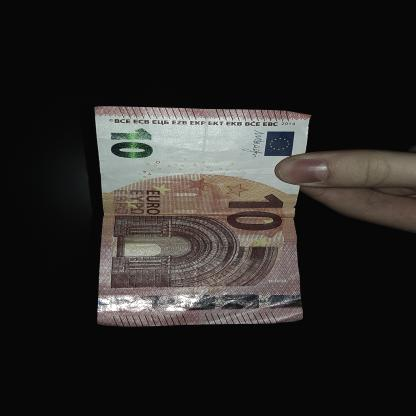euro_banknote: (94, 108, 315, 323)
